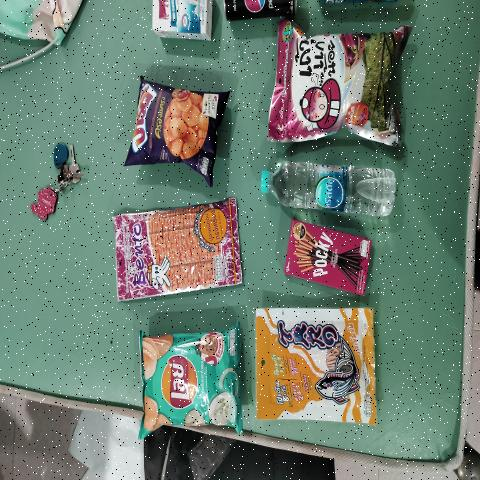bento_red: (112, 212, 237, 288)
crystal: (260, 154, 404, 218)
lay_blue: (145, 340, 236, 424)
party_purple: (128, 76, 213, 178)
pokki: (290, 217, 368, 289)
taokaenoi: (271, 30, 404, 133)
taro_yellow: (258, 310, 374, 420)
thai_denmark: (158, 0, 211, 31)
